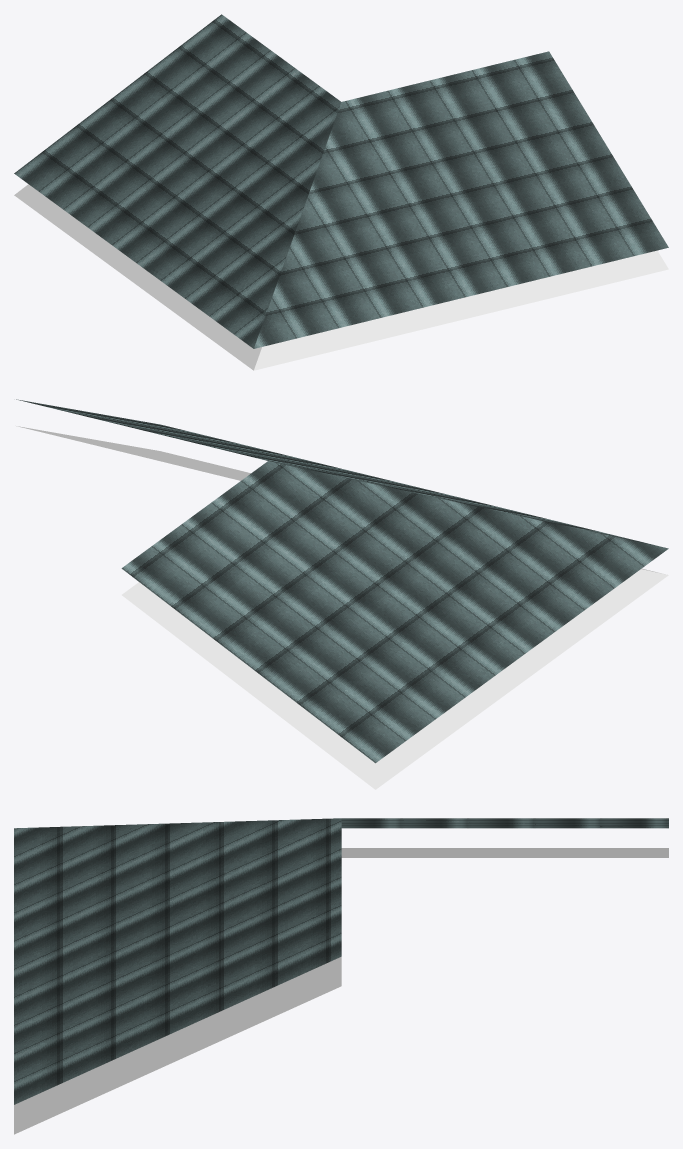
File: roof_corner_mid_4x1.glb
3 renders of one model, top to bottom at view 1: azimuth 30°, elevation 25°; view 2: azimuth 150°, elevation 25°; view 3: azimuth 270°, elevation 25°, orthographic. The views are drawn at different scales.
Parts seen in each view (by area): view 1: roof_corner_mid_4x1; view 2: roof_corner_mid_4x1; view 3: roof_corner_mid_4x1.
Boxes of the visible parts, x1=… form: roof_corner_mid_4x1: x1=14, y1=14, x2=668, y2=370; roof_corner_mid_4x1: x1=16, y1=399, x2=668, y2=789; roof_corner_mid_4x1: x1=14, y1=818, x2=668, y2=1134.
Bounding box in the file's own units: 4 × 1.2 × 4.
2 materials, 1 textured.
